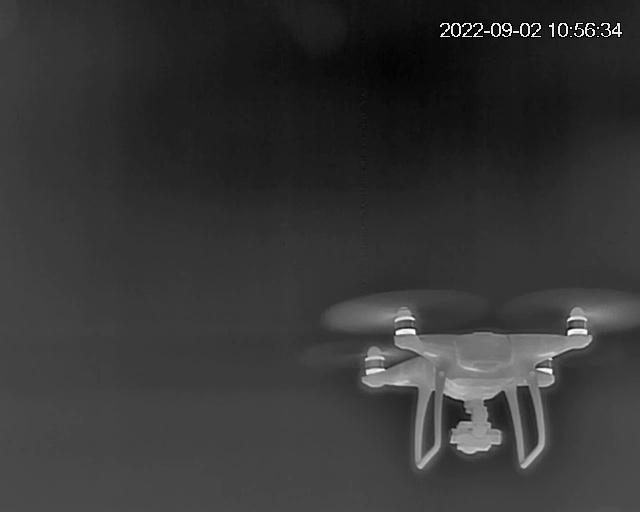DJI-Phantom: (326, 288, 640, 473)
